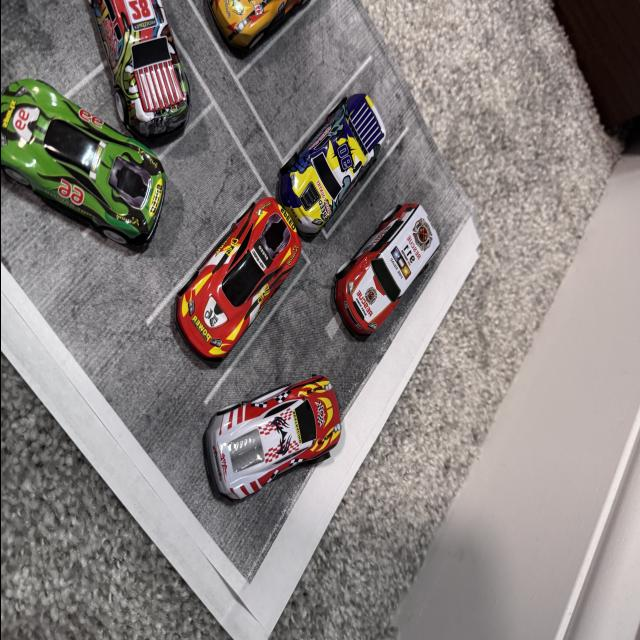Car: (0, 54, 151, 286), (185, 150, 290, 368), (201, 372, 342, 486), (108, 0, 215, 150), (338, 214, 446, 334), (267, 98, 381, 206), (165, 0, 327, 63)
